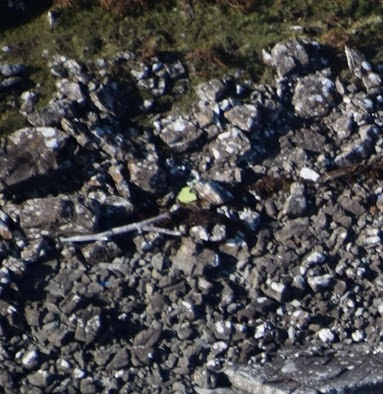straight_bar: (56, 209, 171, 253)
white_in_green: (162, 170, 212, 215)
